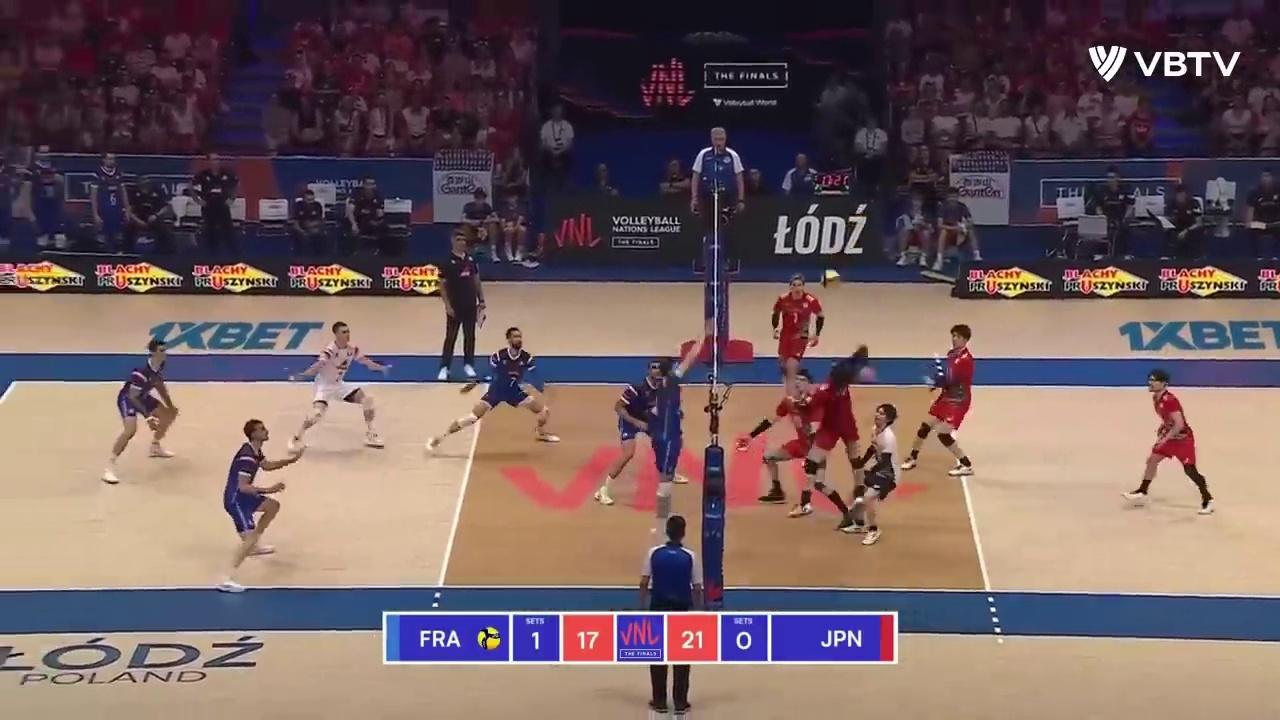ball: (821, 268, 838, 287)
